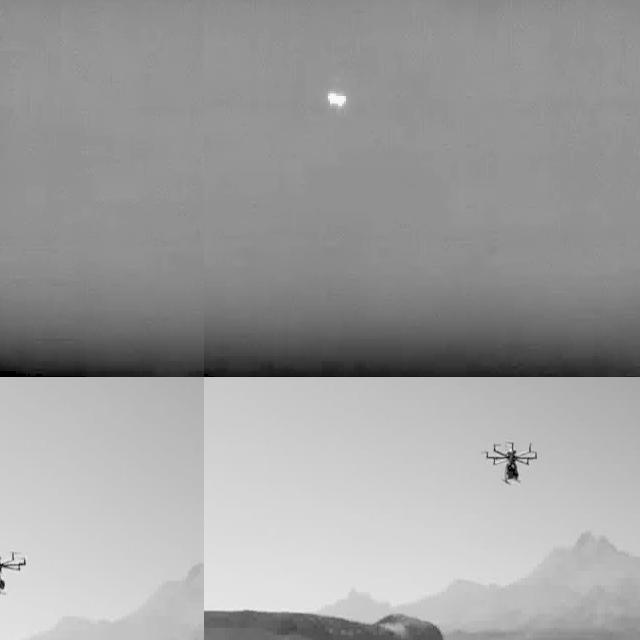1: (317, 87, 353, 120)
drone: (481, 440, 541, 488), (0, 548, 25, 596)
